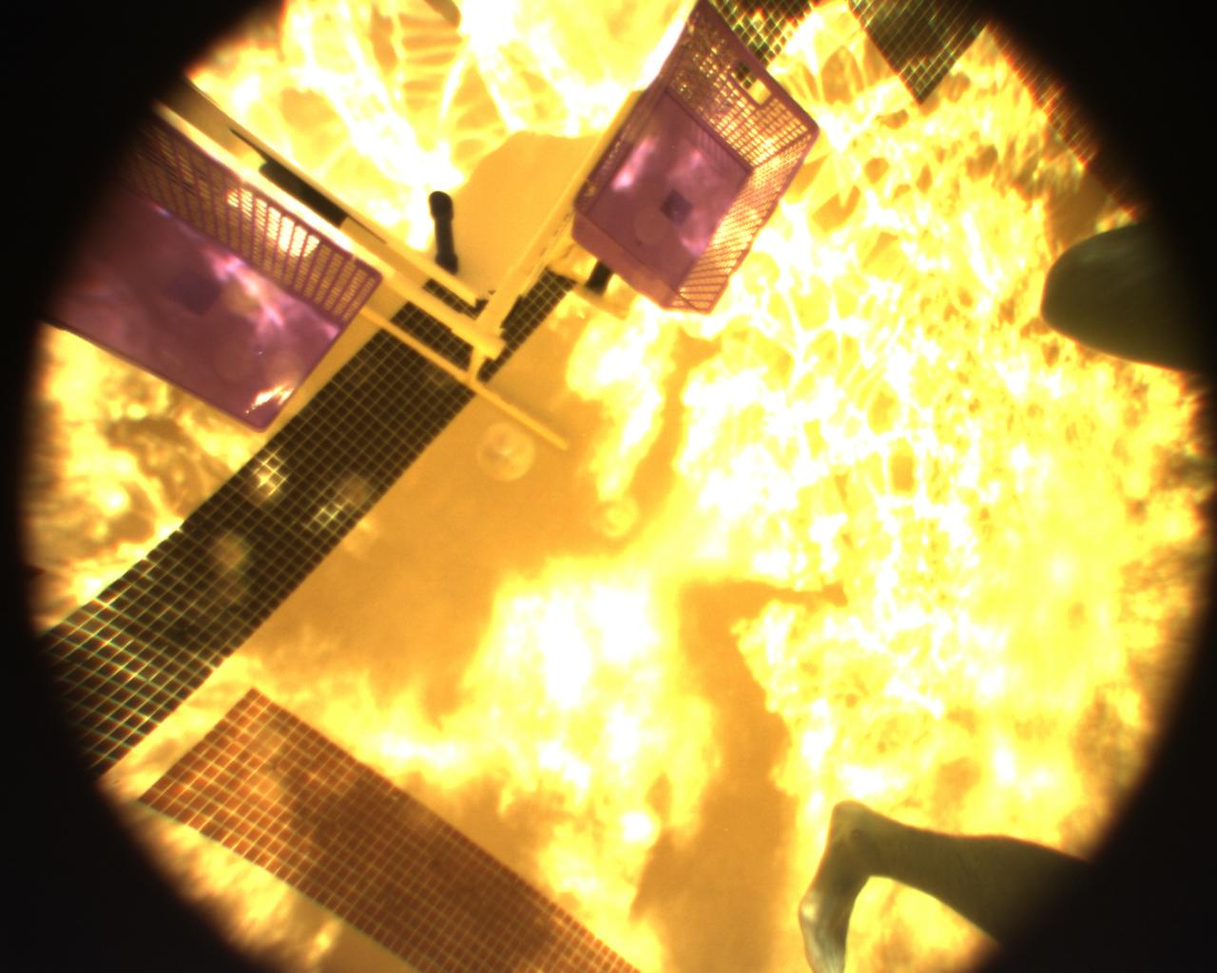coral: (410, 174, 472, 285)
coral-box-top: (154, 0, 686, 318)
